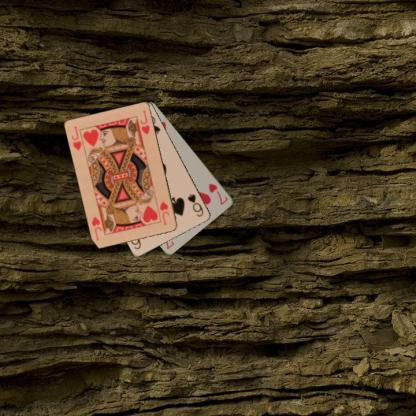6s: (186, 192, 204, 219)
7h: (206, 181, 230, 206)
Jh: (69, 124, 83, 152), (157, 199, 171, 226)
